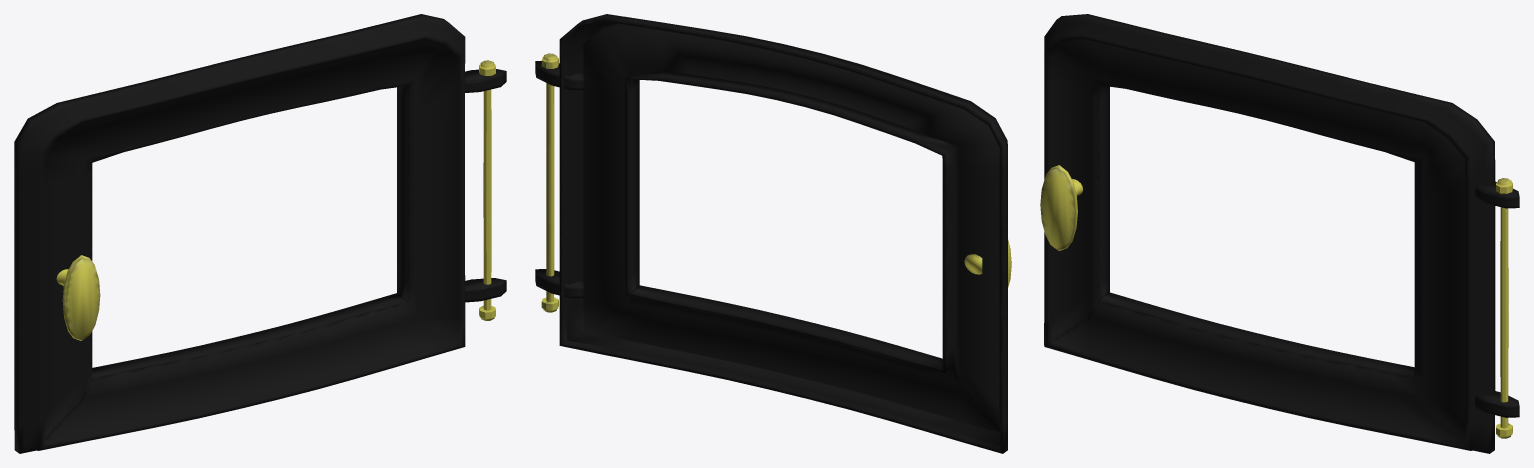
Rendered from wood_stove_door.6e4550c9a3.glb.
The picture shows the model from 3 angles, left to right: view 1: azimuth 30°, elevation 25°; view 2: azimuth 150°, elevation 25°; view 3: azimuth 330°, elevation 25°; orthographic projection.
Parts seen in each view (by area): view 1: wood_stove_door; view 2: wood_stove_door; view 3: wood_stove_door.
Part boxes in pixels (<box>): wood_stove_door: <box>14,14,506,453</box>; wood_stove_door: <box>535,14,1011,453</box>; wood_stove_door: <box>1040,14,1519,453</box>.
Bounding box in the file's own units: 0.4957 × 0.3393 × 0.0543.
1 material, 1 textured.
